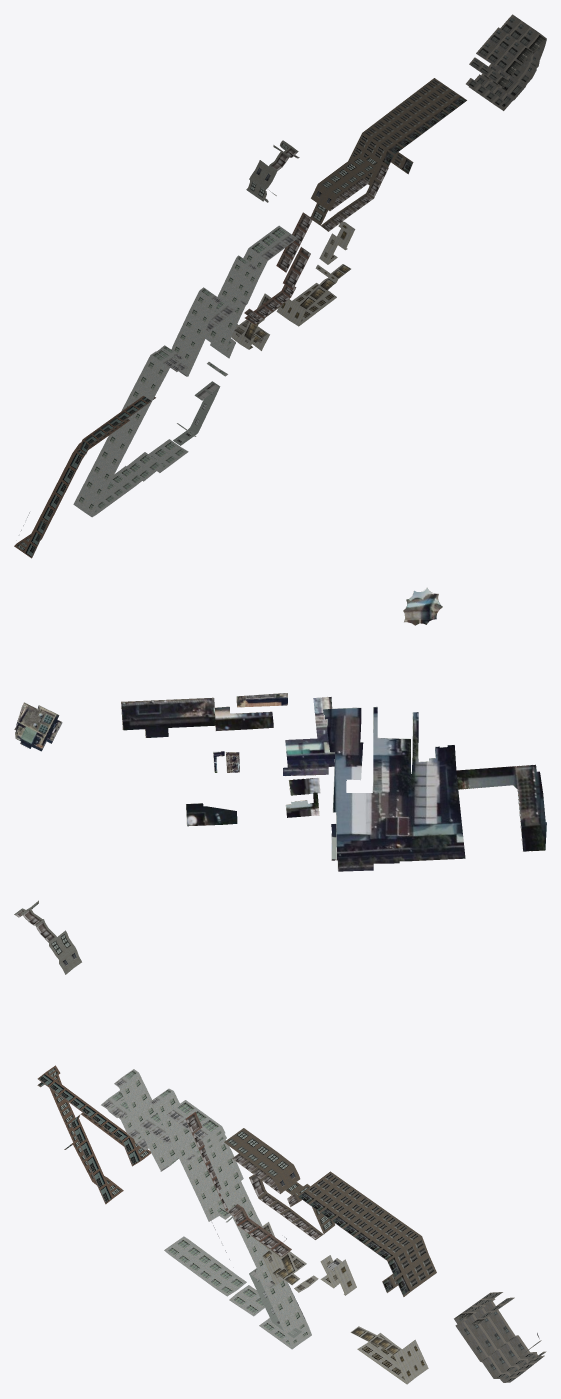
Rendered from tile_LOD8_r0_c0.glb.
3 renders of one model, top to bottom at view 1: azimuth 30°, elevation 25°; view 2: azimuth 150°, elevation 25°; view 3: azimuth 270°, elevation 25°, orthographic. The views are drawn at different scales.
Bounding box in the file's own units: 265 × 143 × 160.
47 materials, 47 textured.
